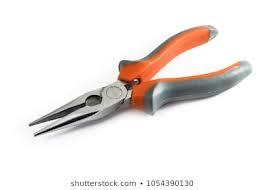pliers: (27, 23, 252, 137)
